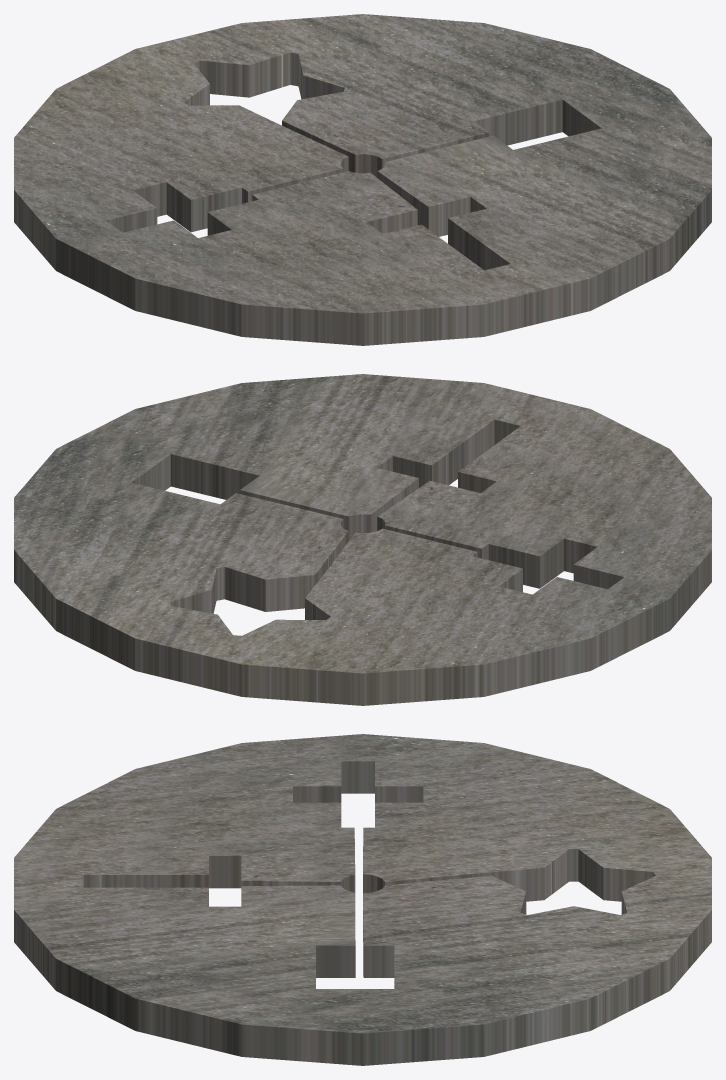
File: Platform.FBX
3 views of the same model, one above another, from view 1: azimuth 30°, elevation 25°; view 2: azimuth 150°, elevation 25°; view 3: azimuth 270°, elevation 25° (orthographic).
Visible parts, largest first — view 1: Circle; view 2: Circle; view 3: Circle.
Part boxes in pixels (x1,y1,x2,y2): Circle: [14, 14, 711, 345]; Circle: [14, 374, 711, 705]; Circle: [14, 734, 711, 1065].
Bounding box in the file's own units: 198 × 10 × 195.
1 material, 1 textured.
